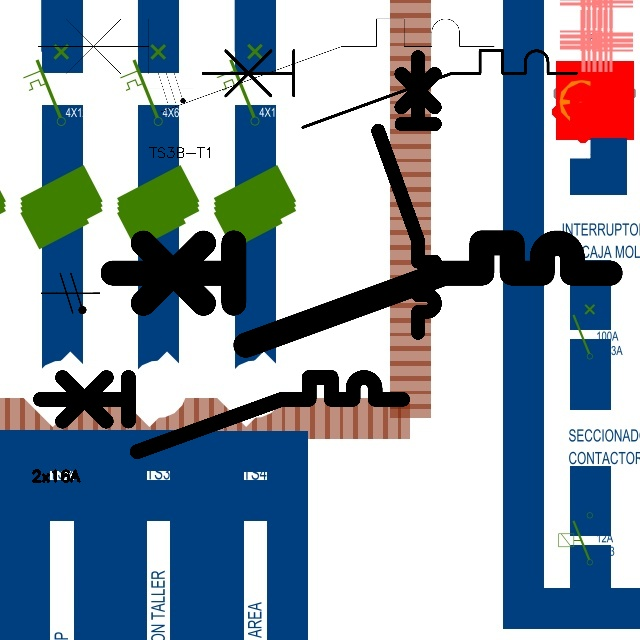interruptor_termomagnetico: (100, 230, 623, 358), (26, 7, 506, 124), (193, 41, 585, 137), (31, 368, 412, 461), (371, 50, 442, 340)
